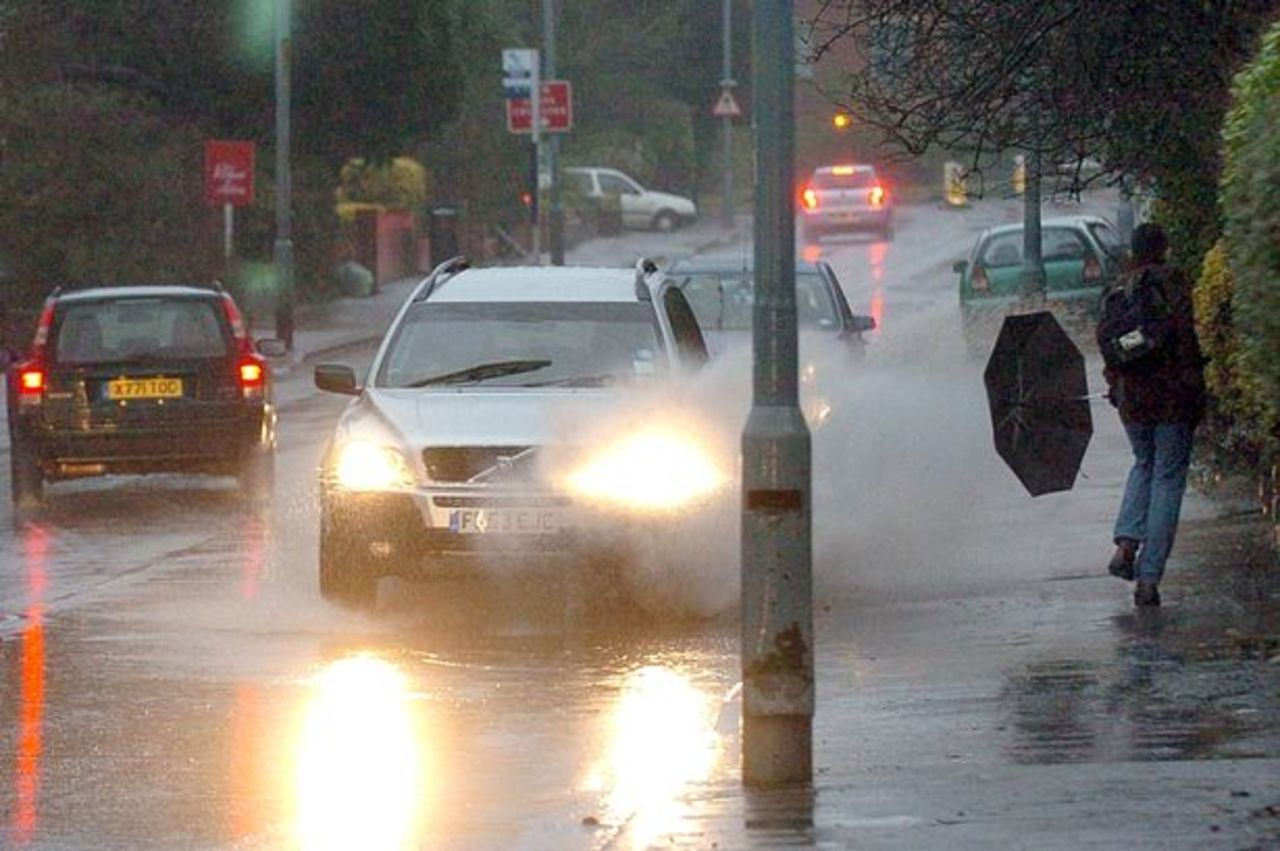car: (314, 259, 735, 599), (5, 285, 279, 500), (672, 259, 875, 445), (957, 214, 1128, 319), (545, 166, 697, 233), (799, 163, 893, 243)
person: (1105, 224, 1205, 610)
